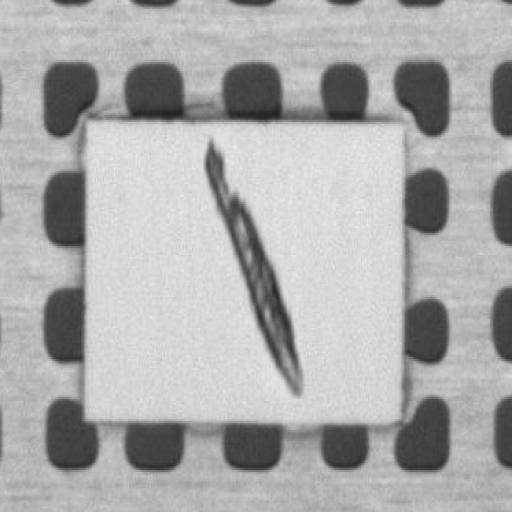DIE_INK: (198, 136, 308, 412)
